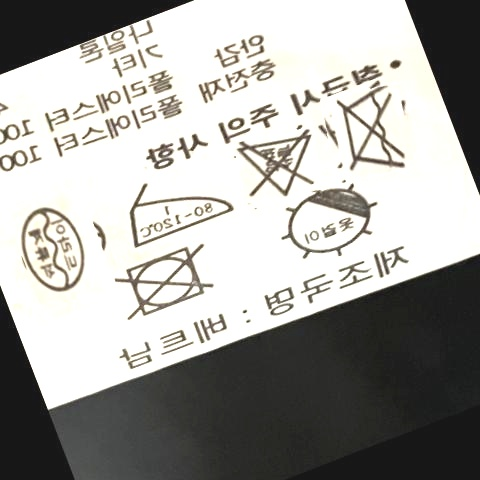DN_tumble_dry: (118, 246, 213, 320)
DN_wash: (328, 90, 410, 170)
dry_clean_petrol_only: (15, 204, 91, 294)
iron_low: (119, 178, 238, 248)
line_dry_in_shade: (277, 185, 375, 259)
non_chlorine_bleach: (234, 135, 315, 197)
